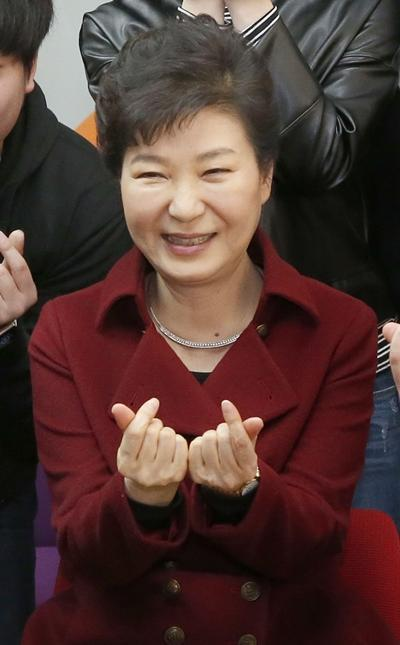heart gesture: (219, 396, 265, 440), (109, 394, 161, 425)
